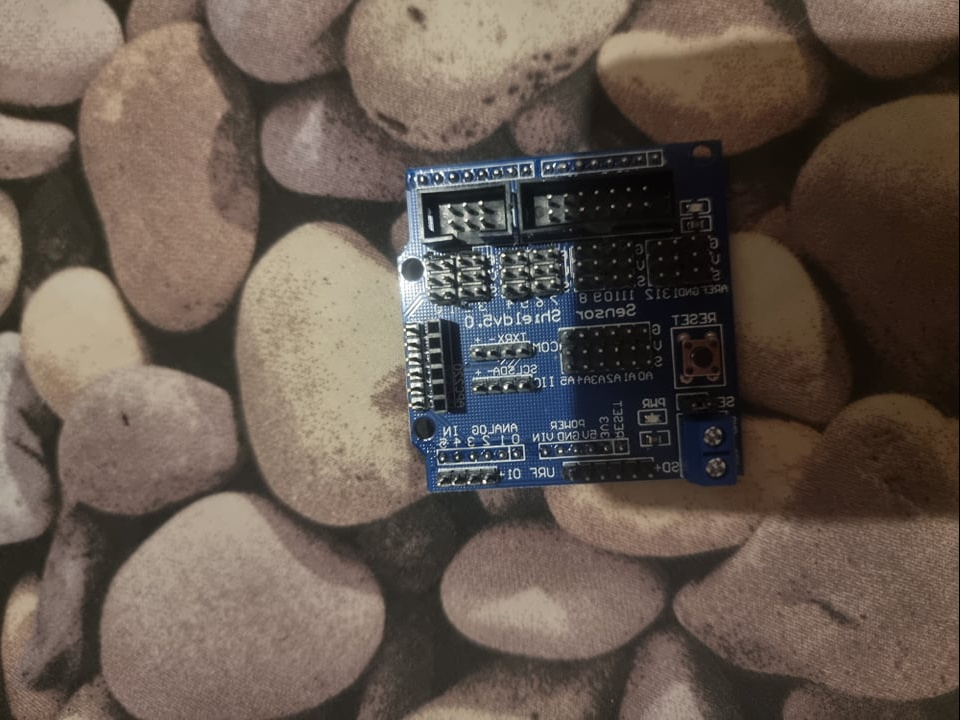5V EXPANSION: (403, 135, 745, 495)
